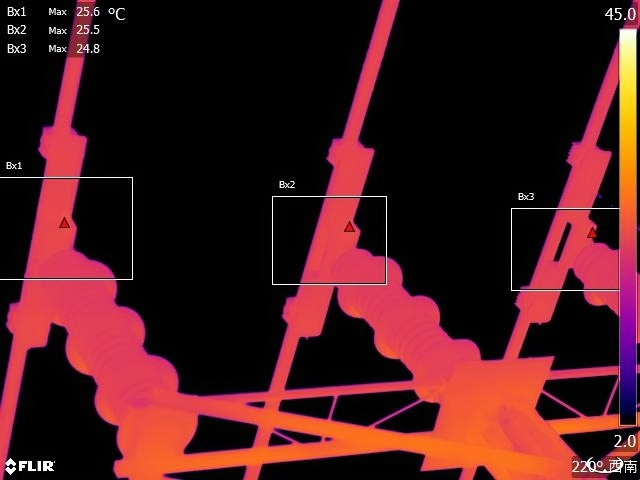post insulator: (35, 244, 194, 456), (334, 230, 489, 386), (575, 236, 640, 331)
